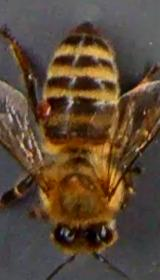varroa_mite: (30, 98, 56, 121)
